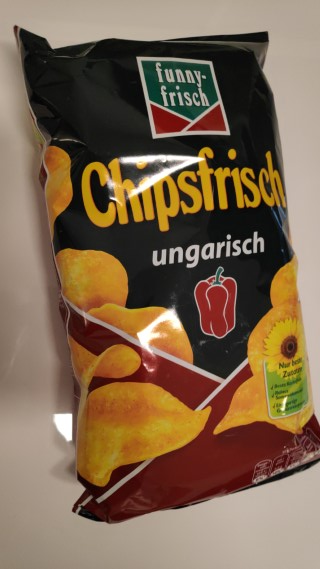chipsfrisch: (11, 22, 320, 529)
